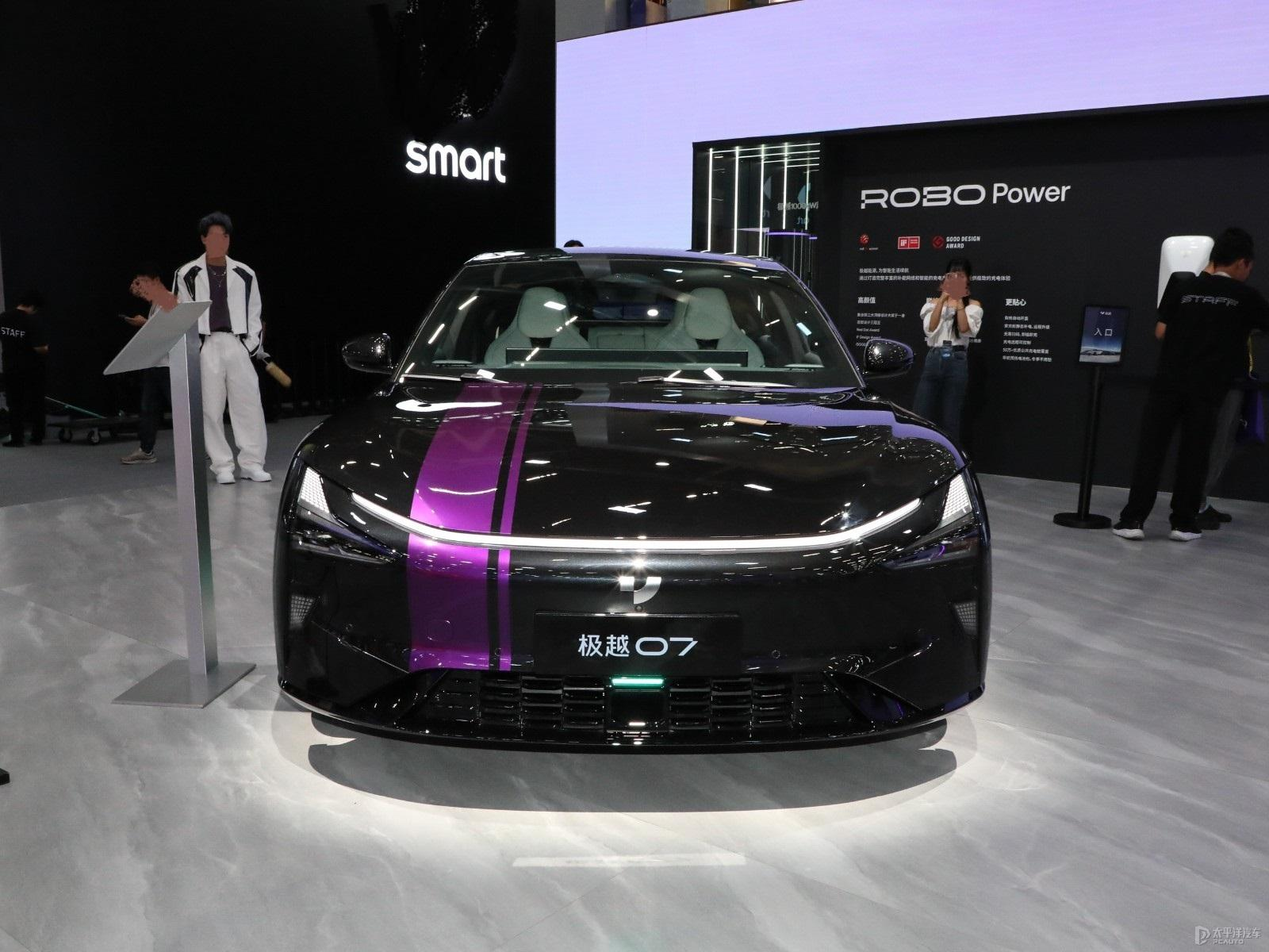JIYUE: (620, 576, 662, 605)
